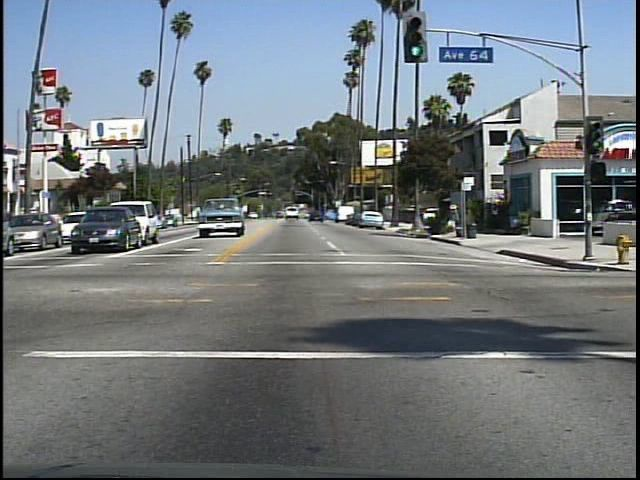person: (444, 198, 461, 234)
